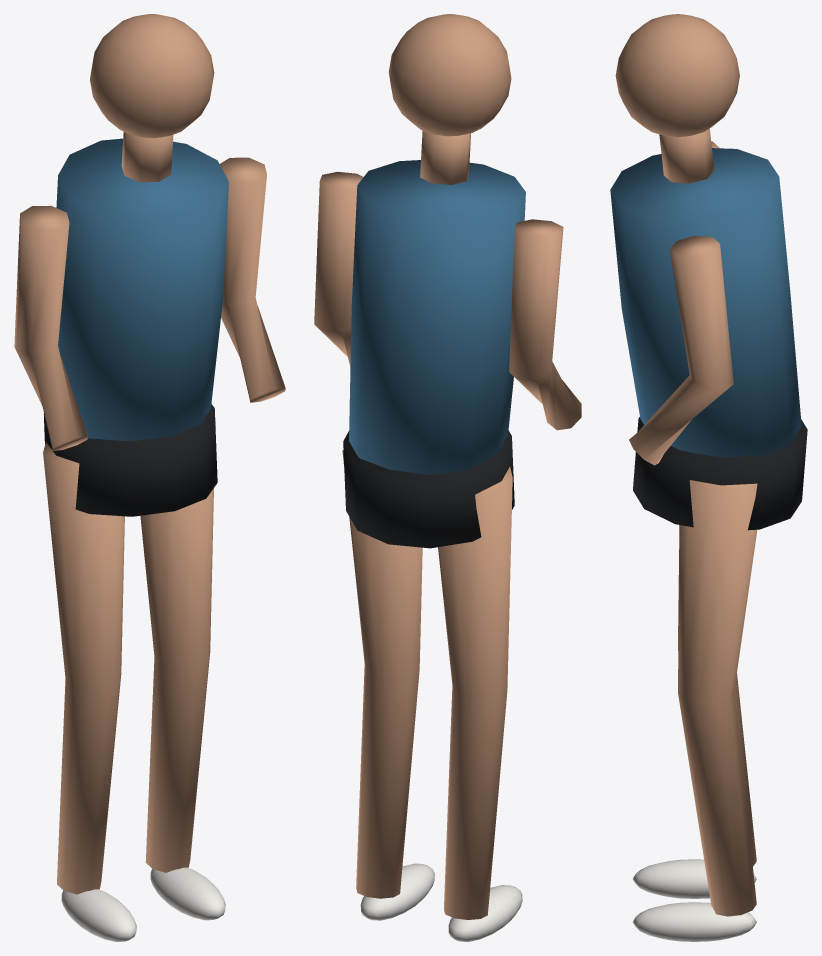
File: runner.glb
The picture shows the model from 3 angles, left to right: view 1: azimuth 30°, elevation 25°; view 2: azimuth 150°, elevation 25°; view 3: azimuth 270°, elevation 25°; orthographic projection.
Visible parts, largest first — view 1: Runner_Torso, Runner_Leg_L, Runner_Leg_R, Runner_Head, Runner_Shorts, Runner_Arm_L, Runner_Arm_R, Runner_Leg_R_Shoe, Runner_Leg_L_Shoe, Runner_Neck; view 2: Runner_Torso, Runner_Leg_L, Runner_Leg_R, Runner_Head, Runner_Shorts, Runner_Arm_L, Runner_Arm_R, Runner_Neck, Runner_Leg_R_Shoe, Runner_Leg_L_Shoe; view 3: Runner_Torso, Runner_Leg_R, Runner_Head, Runner_Arm_R, Runner_Shorts, Runner_Leg_R_Shoe, Runner_Leg_L_Shoe, Runner_Neck, Runner_Leg_L.
Part boxes in pixels (left/top/right/bottom): Runner_Torso: left=56, top=138, right=228, bottom=441; Runner_Leg_L: left=43, top=442, right=124, bottom=894; Runner_Leg_R: left=140, top=421, right=215, bottom=872; Runner_Head: left=90, top=14, right=214, bottom=138; Runner_Shorts: left=43, top=404, right=217, bottom=516; Runner_Arm_L: left=14, top=205, right=87, bottom=450; Runner_Arm_R: left=220, top=157, right=285, bottom=402; Runner_Leg_R_Shoe: left=150, top=867, right=225, bottom=920; Runner_Leg_L_Shoe: left=61, top=889, right=136, bottom=941; Runner_Neck: left=121, top=132, right=173, bottom=182; Runner_Torso: left=349, top=160, right=525, bottom=474; Runner_Leg_L: left=438, top=466, right=512, bottom=919; Runner_Leg_R: left=342, top=450, right=422, bottom=898; Runner_Head: left=388, top=14, right=511, bottom=136; Runner_Shorts: left=343, top=431, right=514, bottom=548; Runner_Arm_L: left=509, top=219, right=581, bottom=430; Runner_Arm_R: left=314, top=171, right=363, bottom=366; Runner_Neck: left=420, top=131, right=470, bottom=184; Runner_Leg_R_Shoe: left=360, top=863, right=434, bottom=920; Runner_Leg_L_Shoe: left=448, top=885, right=522, bottom=941; Runner_Torso: left=610, top=148, right=801, bottom=457; Runner_Leg_R: left=678, top=480, right=757, bottom=916; Runner_Head: left=615, top=14, right=739, bottom=137; Runner_Arm_R: left=629, top=235, right=733, bottom=465; Runner_Shorts: left=633, top=417, right=807, bottom=530; Runner_Leg_R_Shoe: left=633, top=902, right=756, bottom=941; Runner_Leg_L_Shoe: left=633, top=859, right=756, bottom=898; Runner_Neck: left=659, top=128, right=714, bottom=183; Runner_Leg_L: left=678, top=525, right=756, bottom=866.
Size of the model in its own units: 0.49 by 1.75 by 0.3491.
